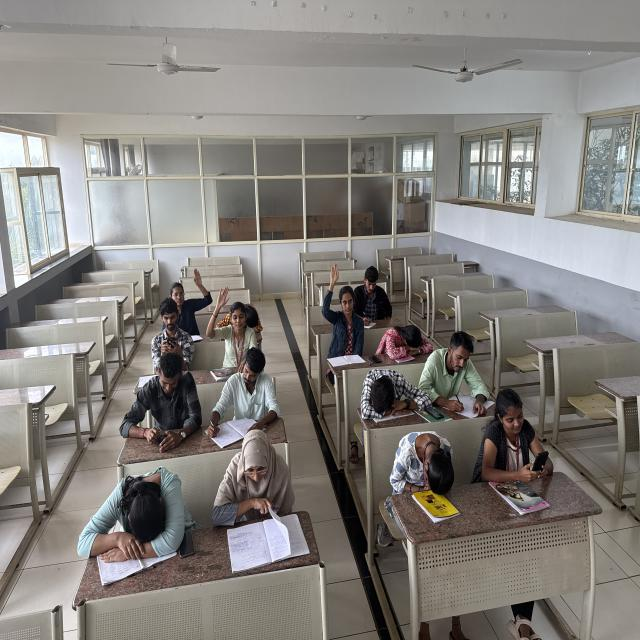Hand Rising: (209, 286, 259, 366), (321, 262, 365, 352), (165, 268, 210, 330)
Reading: (212, 423, 310, 548)
Sleeping: (72, 463, 191, 561), (388, 428, 458, 491), (358, 366, 430, 416), (377, 318, 438, 356)
Using Phone: (116, 347, 199, 443), (481, 384, 560, 482), (148, 300, 196, 365)
Writing: (206, 342, 280, 436), (421, 331, 495, 416), (354, 268, 394, 333)
